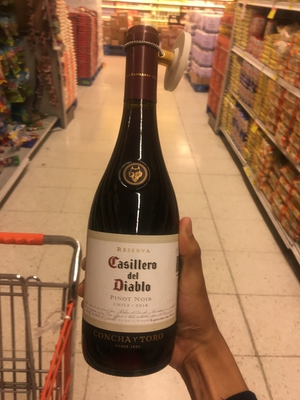casillero del diablo pinot noir: (84, 27, 186, 398)
